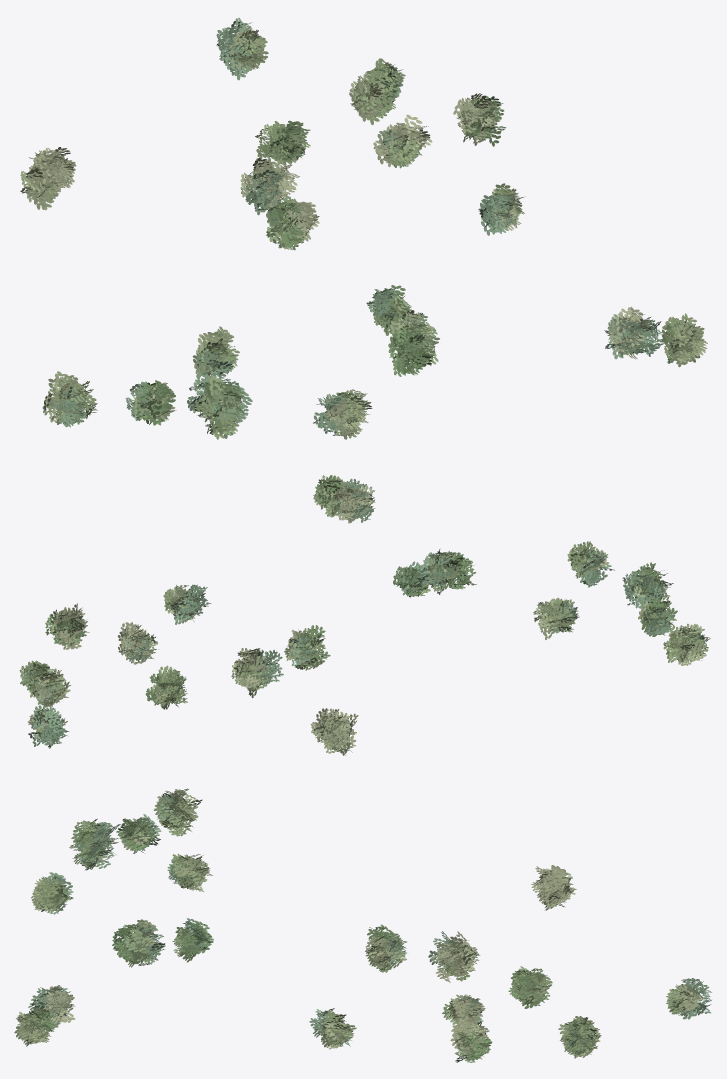
File: campus-tree-5_-3-far.glb
3 renders of one model, top to bottom at view 1: azimuth 30°, elevation 25°; view 2: azimuth 150°, elevation 25°; view 3: azimuth 270°, elevation 25°, orthographic. The views are drawn at different scales.
Visible parts, largest first — view 1: Campus leaf canopy; view 2: Campus leaf canopy; view 3: Campus leaf canopy.
Part boxes in pixels (<box>): Campus leaf canopy: <box>20,17,707,439</box>; Campus leaf canopy: <box>19,475,710,755</box>; Campus leaf canopy: <box>14,788,711,1062</box>.
Bounding box in the file's own units: 71.2 × 8.03 × 81.47.
1 material, 1 textured.
